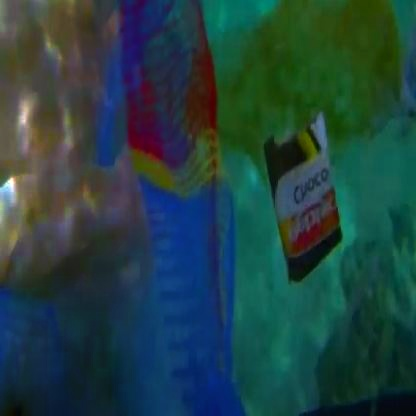plastic: (9, 28, 213, 405), (246, 104, 351, 274)
